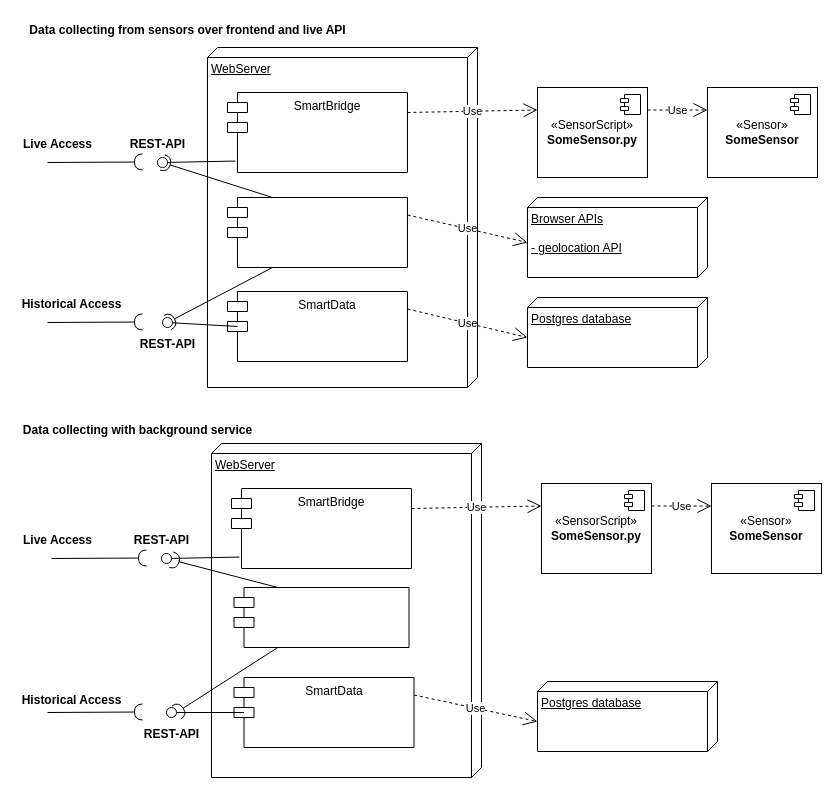
Image size: 839x795. Some labels were removed from this diagram. Each missing label, with the centre of its shape:
"ServerSideJobs" belongs at (x=321, y=617).
"SmartMonitoringFrontend" belongs at (x=317, y=232).
